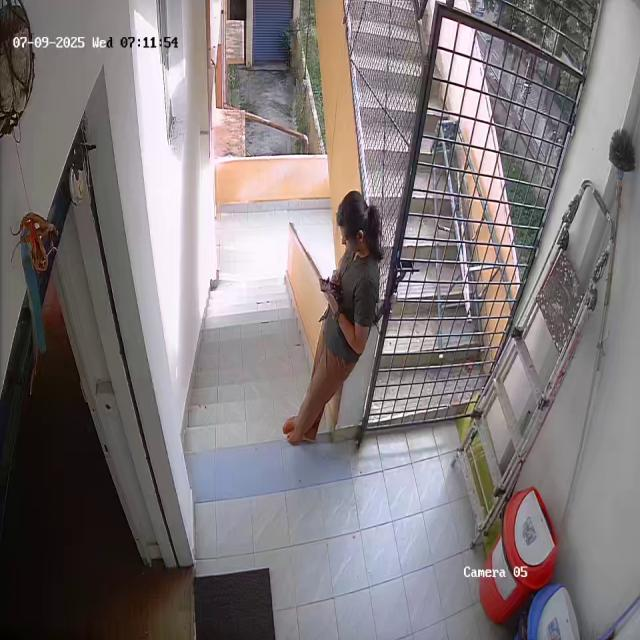person: (278, 188, 377, 444)
